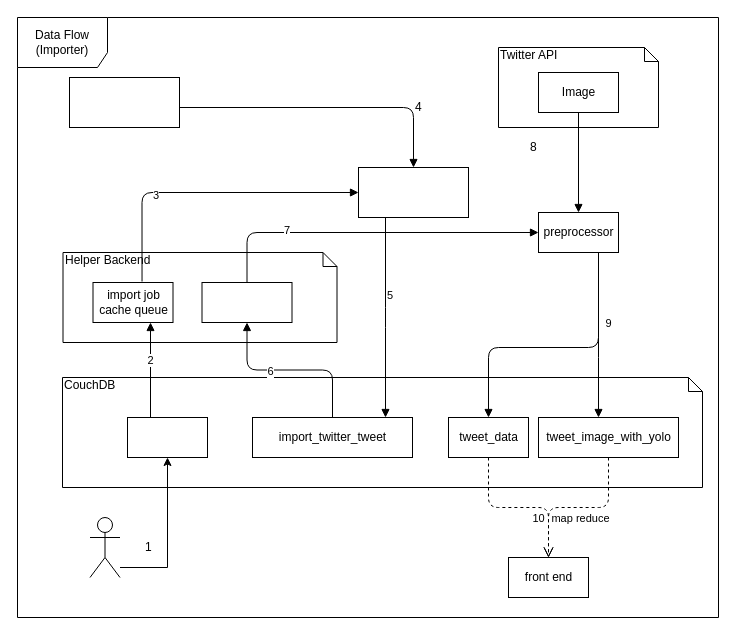
Some shapes in this 736 by 635 pixel diagram are drawn without their labels. Each missing label, with the centre of its shape:
"import_job" goes at [167,437].
"importer" goes at [413,192].
"manually add jobs" goes at [104,547].
"tweet job cache queue" goes at [246,302].
"UniMelb Research Cloud Twitter Dataset" goes at [124,102].
